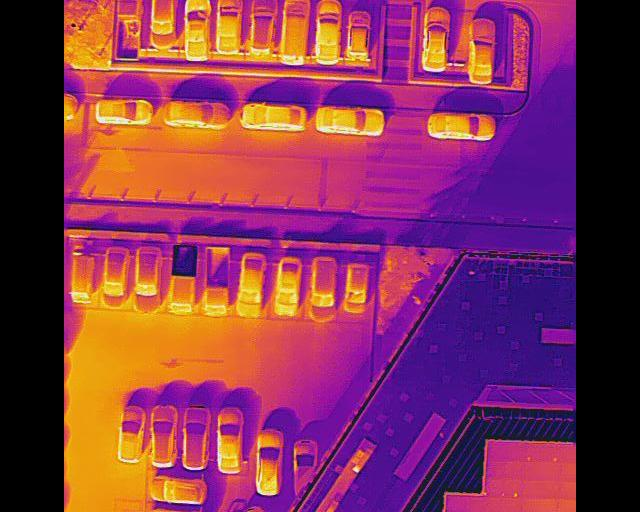Cell-Multi: (522, 442, 560, 462), (485, 478, 523, 497)
No-Anomaly: (520, 478, 560, 498), (521, 461, 560, 480), (445, 494, 483, 512), (486, 460, 523, 478), (487, 441, 522, 459), (483, 496, 520, 512), (519, 497, 558, 512)
